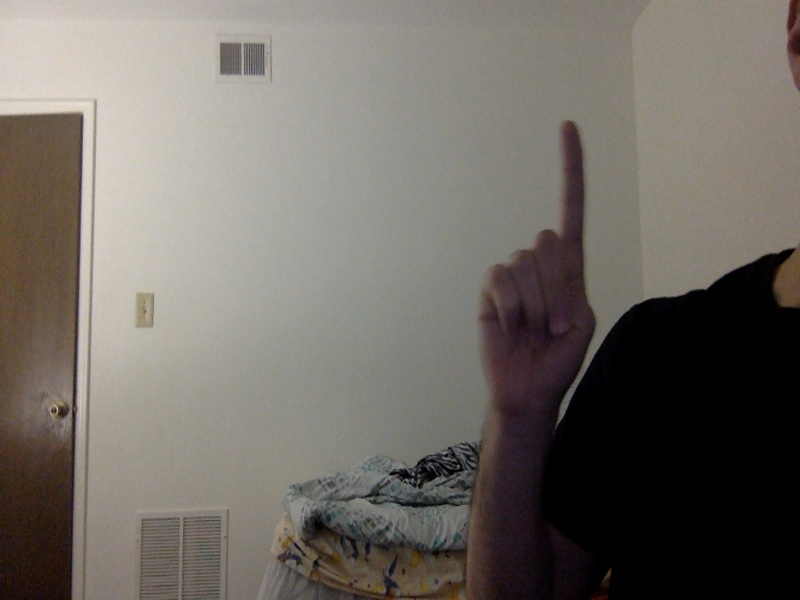1-hand: (477, 120, 600, 414)
